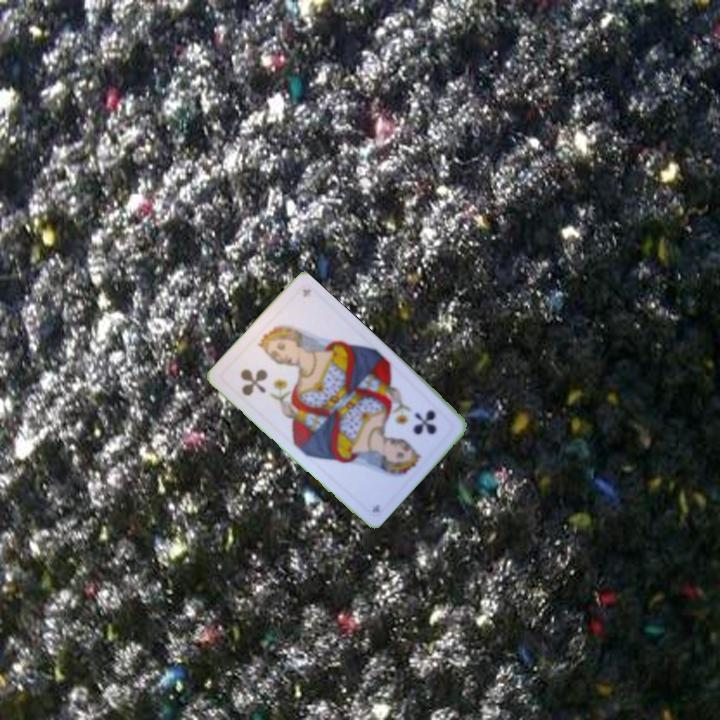c_q.png: (372, 387, 458, 473), (218, 328, 303, 414)
